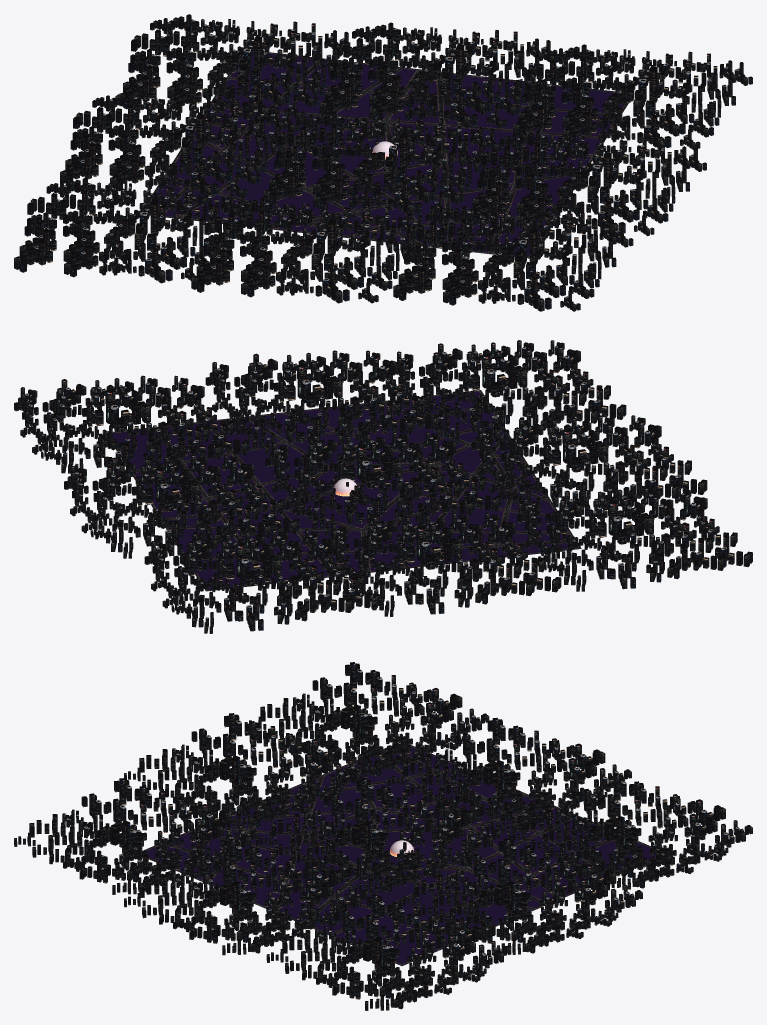
The model's file is City_Small.glb.
3 views of the same model, one above another, from view 1: azimuth 30°, elevation 25°; view 2: azimuth 150°, elevation 25°; view 3: azimuth 270°, elevation 25° (orthographic). The views are drawn at different scales.
Visible parts, largest first — view 1: CityFloor, CitySection.008, CitySection.007, CitySection.001, CitySection.003, CitySection, CitySection.002, CitySection.004, CitySection.005, CitySection.006; view 2: CityFloor, CitySection.006, CitySection.005, CitySection.001, CitySection.002, CitySection.003, CitySection.007, CitySection, CitySection.004, CitySection.008; view 3: CityFloor, CitySection.007, CitySection.002, CitySection.006, CitySection, CitySection.001, CitySection.008, CitySection.004, CitySection.003, CitySection.005.
Boxes of the visible parts, x1,y1,x2,y2 form: CityFloor: (148, 51, 634, 258); CitySection.008: (393, 206, 633, 311); CitySection.007: (513, 44, 752, 149); CitySection.001: (319, 22, 558, 128); CitySection.003: (60, 91, 299, 197); CitySection: (263, 111, 503, 216); CitySection.002: (467, 130, 706, 235); CitySection.004: (191, 197, 430, 303); CitySection.005: (14, 177, 253, 283); CitySection.006: (117, 14, 356, 119); CityFloor: (111, 390, 581, 591); CitySection.006: (144, 529, 380, 633); CitySection.005: (517, 487, 752, 591); CitySection.001: (64, 454, 299, 558); CitySection.002: (205, 350, 441, 454); CitySection.003: (328, 512, 561, 616); CitySection.007: (14, 375, 249, 476); CitySection: (265, 431, 501, 535); CitySection.004: (471, 415, 707, 519); CitySection.008: (391, 340, 626, 444); CityFloor: (142, 744, 655, 965); CitySection.007: (266, 894, 511, 1010); CitySection.002: (124, 838, 368, 955); CitySection.006: (508, 773, 752, 890); CitySection: (255, 778, 500, 894); CitySection.001: (398, 838, 642, 954); CitySection.008: (14, 778, 258, 894); CitySection.004: (124, 713, 368, 829); CitySection.003: (387, 717, 631, 834); CitySection.005: (244, 662, 489, 778).
Bounding box in the file's own units: 727 × 30.66 × 673.
3 materials, 1 textured.
